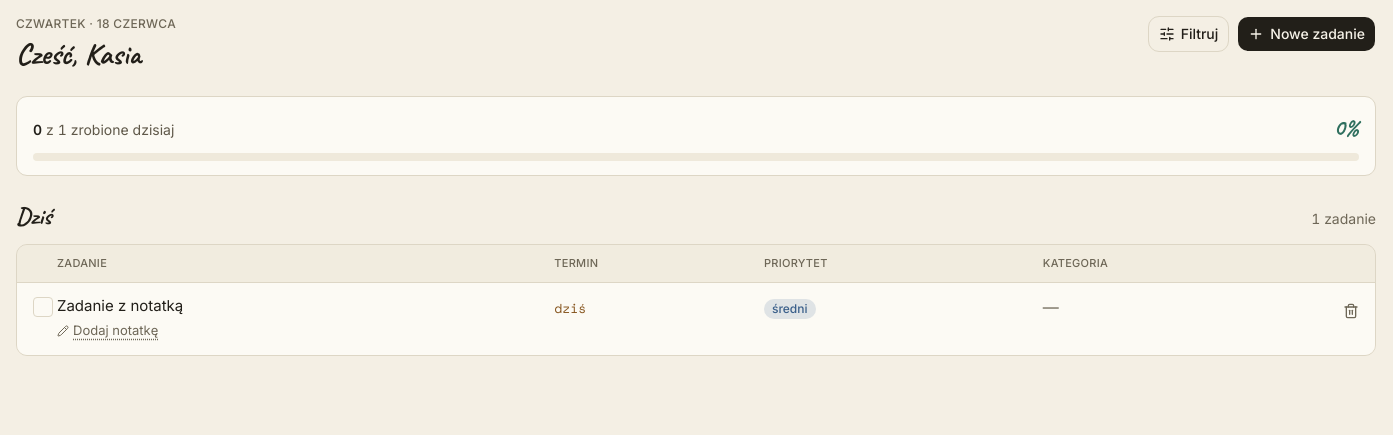
Test: TodayPage (P-D) › inline edycja notatki z listy zapisuje description (POPRAWKA 5)
The width and height of the screenshot is (1393, 435).
Note: Brak notatki → „Dodaj notatkę" (w tabeli desktopowej).
Step 1. Click the button with aria-label "Dodaj notatkę do zadania" → (108, 331), box [57, 321, 158, 340]
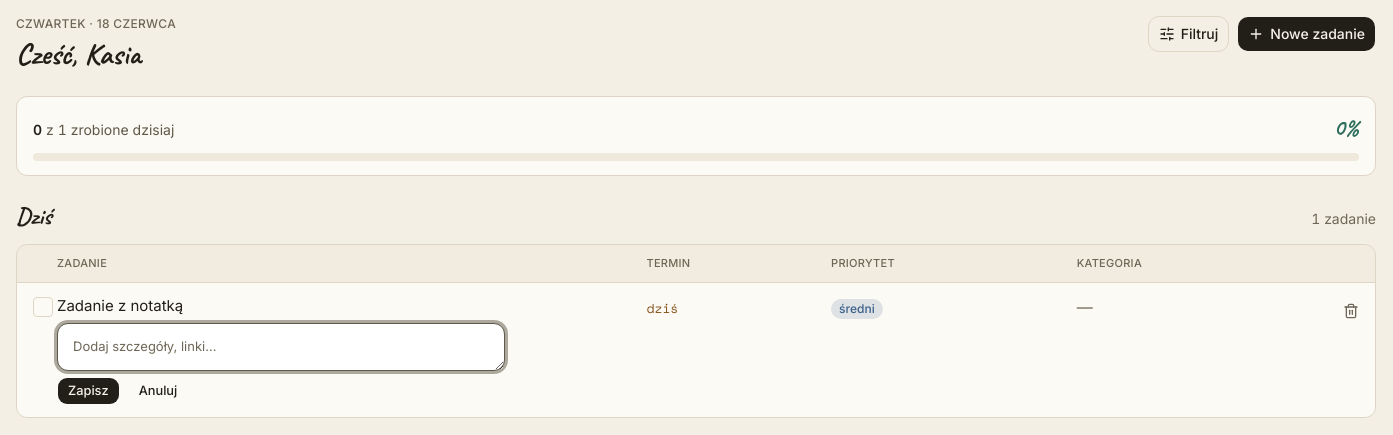
Step 2. Type "Rozdziały 4-6" into the text box named "Notatka zadania" → (281, 347), box [57, 323, 505, 370]
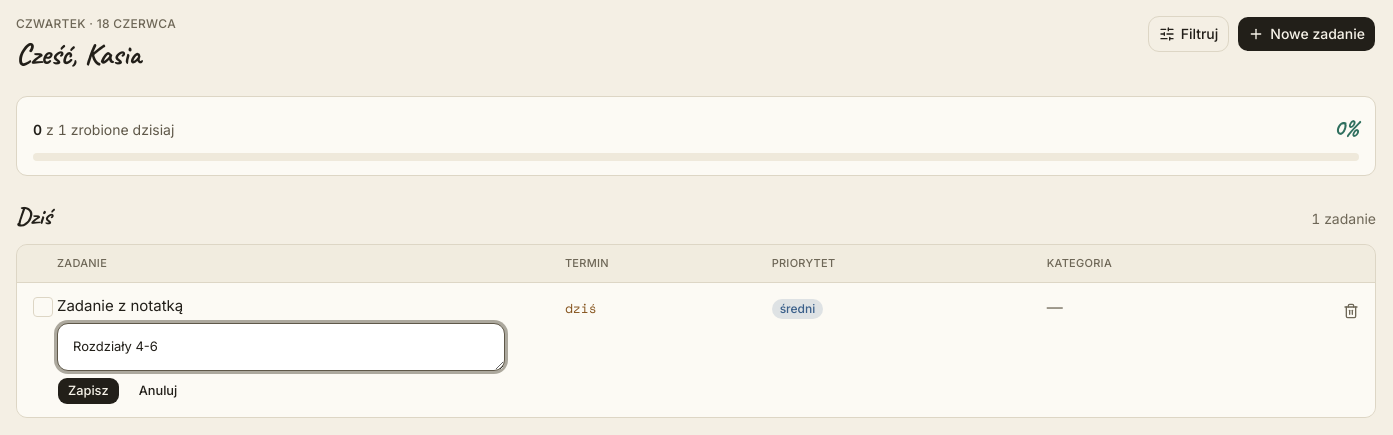
Step 3. Click the button "Zapisz" → (88, 390), box [57, 376, 120, 404]
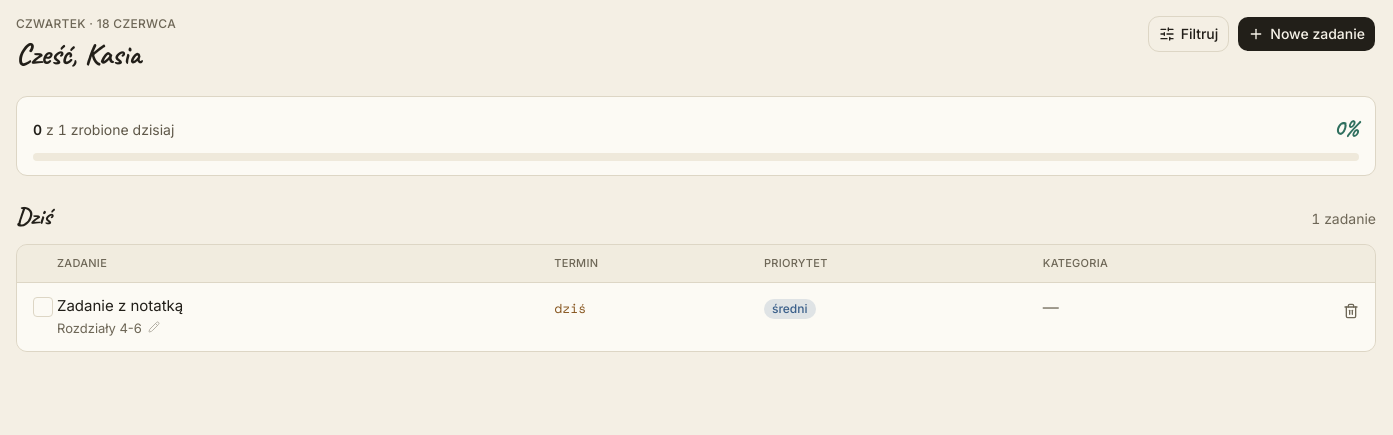
Now the text "Rozdziały 4-6" is shown, box [57, 319, 142, 338]
